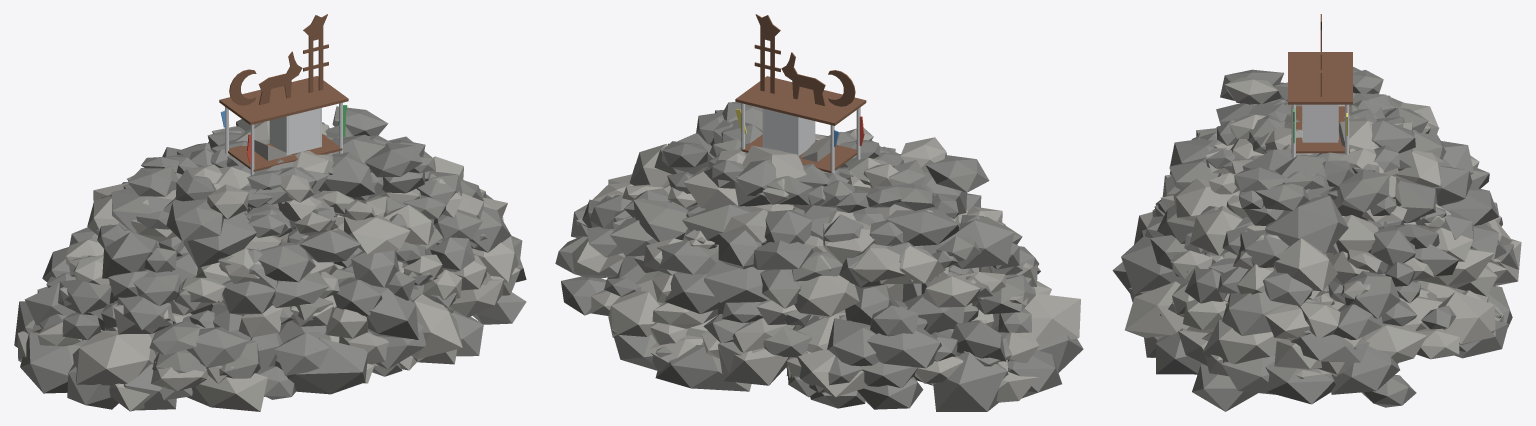
Rendered from cima-perdido.glb.
3 views of the same model, side by side, from view 1: azimuth 30°, elevation 25°; view 2: azimuth 150°, elevation 25°; view 3: azimuth 270°, elevation 25° (orthographic). The views are drawn at different scales.
Parts seen in each view (by area): view 1: piedras, piedras_claras, bandeja, caja_marco, caja_cristal, balda, figura, sarrio, luna, pilar; view 2: piedras, piedras_claras, bandeja, caja_marco, caja_cristal, figura, sarrio, balda, pilar, luna; view 3: piedras, piedras_claras, bandeja, caja_marco, balda.
Part boxes in pixels (x1=…): piedras: x1=14, y1=106, x2=526, y2=410; piedras_claras: x1=17, y1=120, x2=520, y2=411; bandeja: x1=219, y1=76, x2=348, y2=124; caja_marco: x1=269, y1=108, x2=321, y2=155; caja_cristal: x1=288, y1=108, x2=320, y2=153; balda: x1=228, y1=134, x2=342, y2=171; figura: x1=303, y1=14, x2=327, y2=92; sarrio: x1=258, y1=51, x2=302, y2=104; luna: x1=229, y1=69, x2=256, y2=105; pilar: x1=251, y1=140, x2=291, y2=241; piedras: x1=555, y1=102, x2=1083, y2=411; piedras_claras: x1=572, y1=128, x2=1080, y2=402; bandeja: x1=735, y1=76, x2=866, y2=125; caja_marco: x1=762, y1=108, x2=815, y2=156; caja_cristal: x1=763, y1=109, x2=796, y2=153; figura: x1=755, y1=14, x2=780, y2=93; sarrio: x1=781, y1=52, x2=825, y2=105; balda: x1=742, y1=134, x2=857, y2=172; pilar: x1=793, y1=135, x2=830, y2=213; luna: x1=828, y1=70, x2=855, y2=106; piedras: x1=1112, y1=67, x2=1518, y2=411; piedras_claras: x1=1125, y1=77, x2=1521, y2=378; bandeja: x1=1288, y1=52, x2=1352, y2=104; caja_marco: x1=1302, y1=104, x2=1338, y2=142; balda: x1=1291, y1=106, x2=1349, y2=153.
Bounding box in the file's own units: 4.89 × 3.09 × 3.45.
